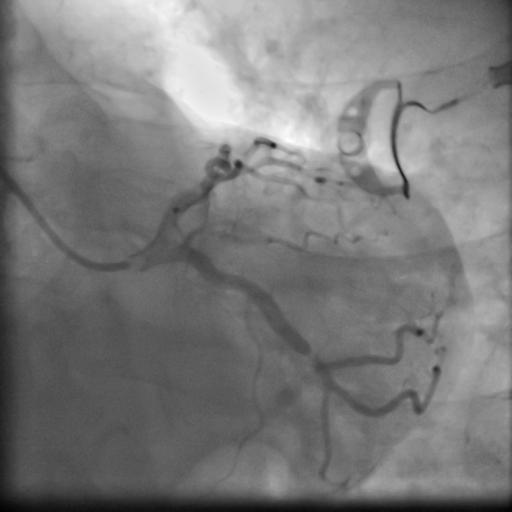Stenosis: (306, 343, 320, 366)
